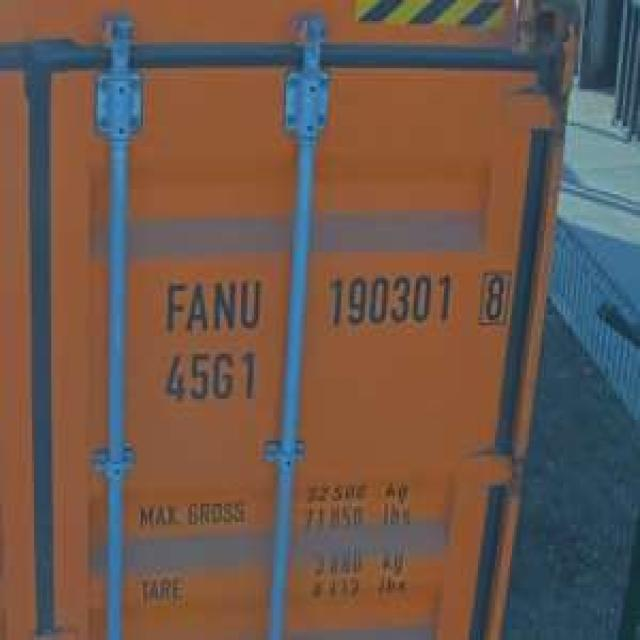dv: (474, 268, 513, 331)
owner: (160, 277, 264, 336)
serial: (321, 268, 456, 334)
size: (158, 347, 264, 406)
